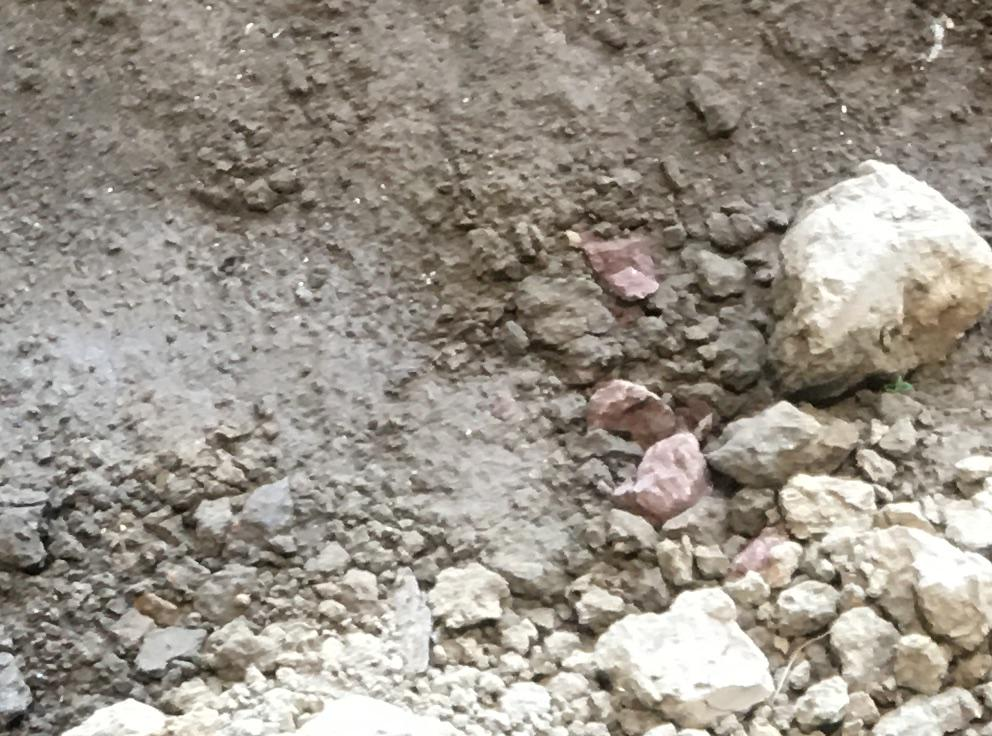block: (765, 155, 992, 391), (585, 577, 775, 724), (820, 517, 992, 651)
